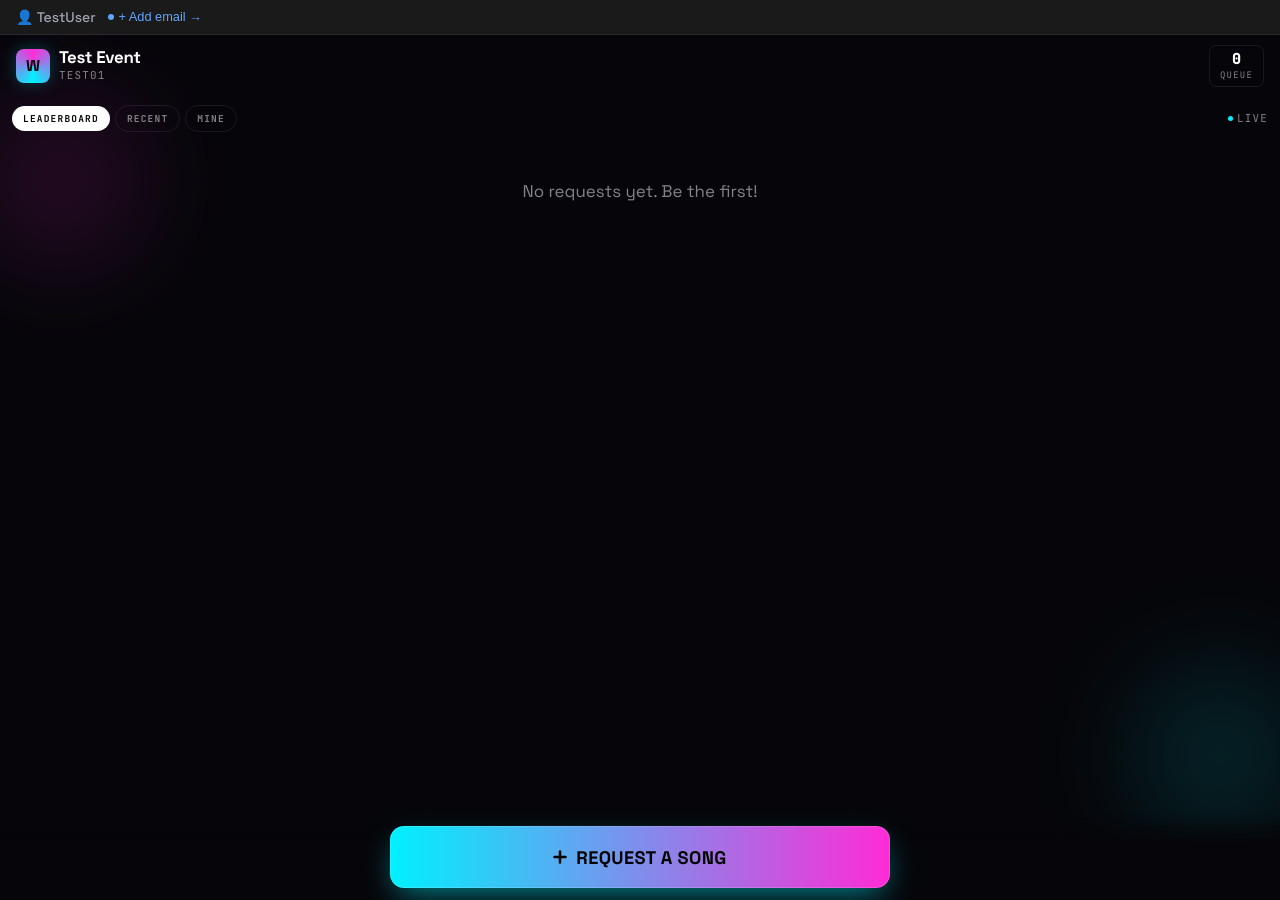
Test case: JoinEventPage — request list view › clicking "Request a Song" resets form and goes back to search
Click the button "REQUEST A SONG" at (640, 857), box [390,826,890,888]
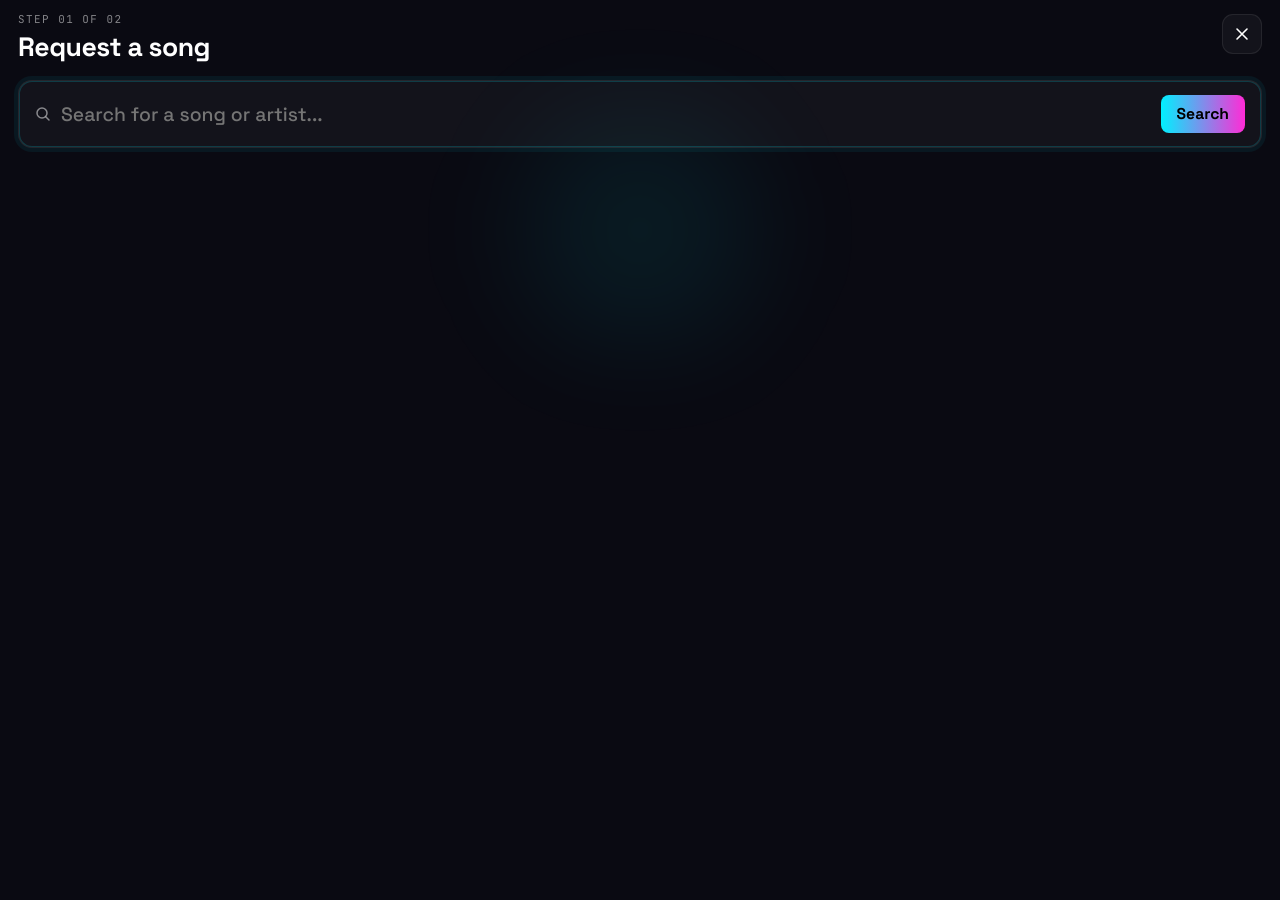
Expected: the text "Request a song" is shown, [18,30,210,64]
